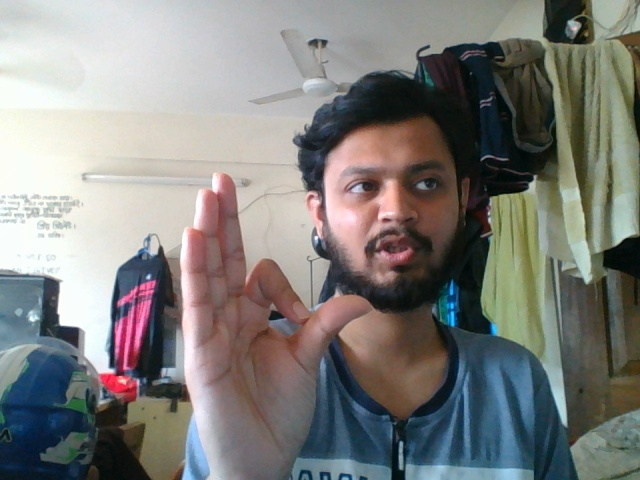uo: (174, 164, 373, 475)
